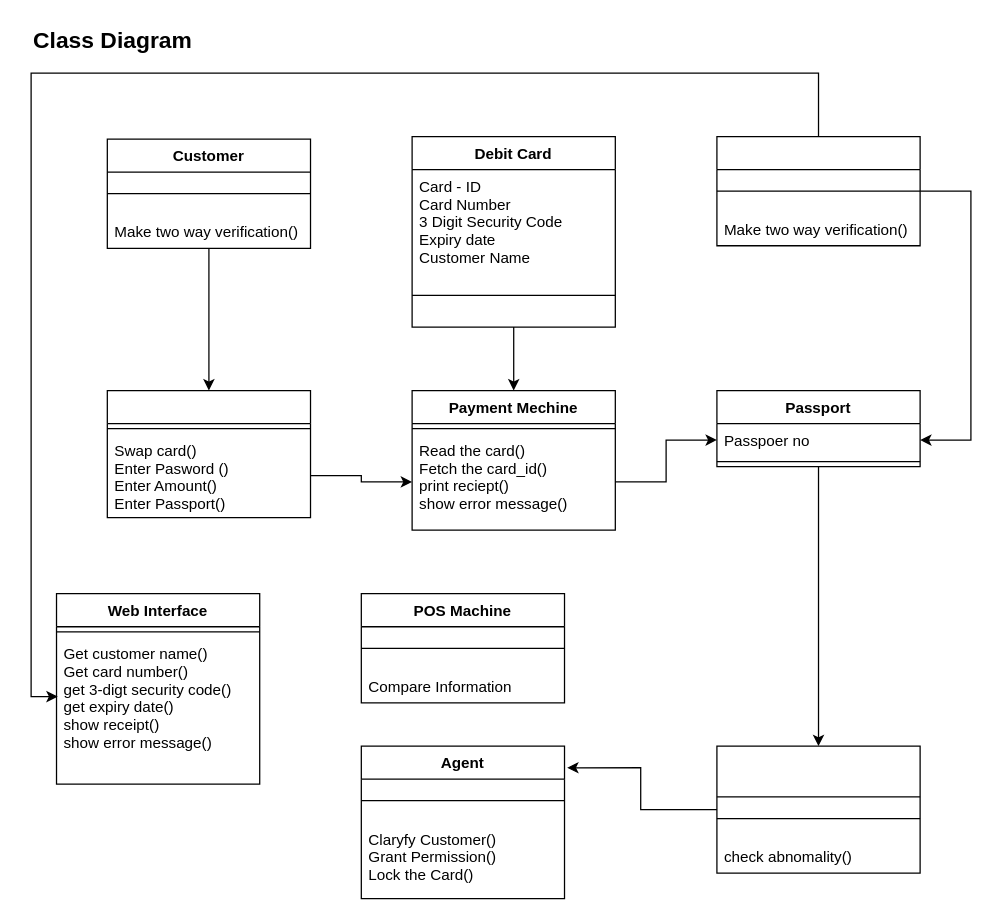
Image size: 1003x923. Some labels were removed from this diagram. The box of each missing label's shape, as (x1, y1, x2, y2) in pixels:
Backend Server: (716, 135, 920, 246)
Inteligent Security brach detection system: (716, 745, 920, 873)
Seller: (106, 389, 311, 518)
